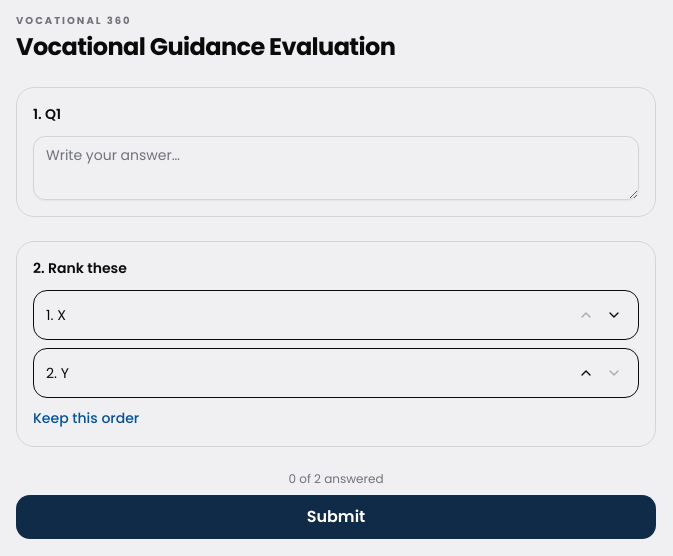
Test: ranking items count as answered only after interaction (#410) › counts the ranking after an explicit 'Keep this order' confirm
Expected: the text "Rank these" is shown, [48,258,127,278]
Click the button "Keep this order" at (86, 418), box [33,408,139,428]
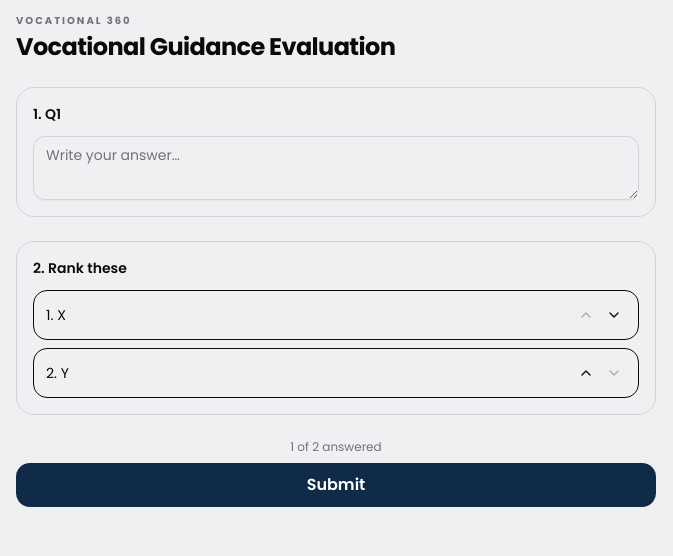
Expected: the text "1 of 2 answered" is shown, [290,438,382,455]
Expected: the button "Keep this order" is gone
